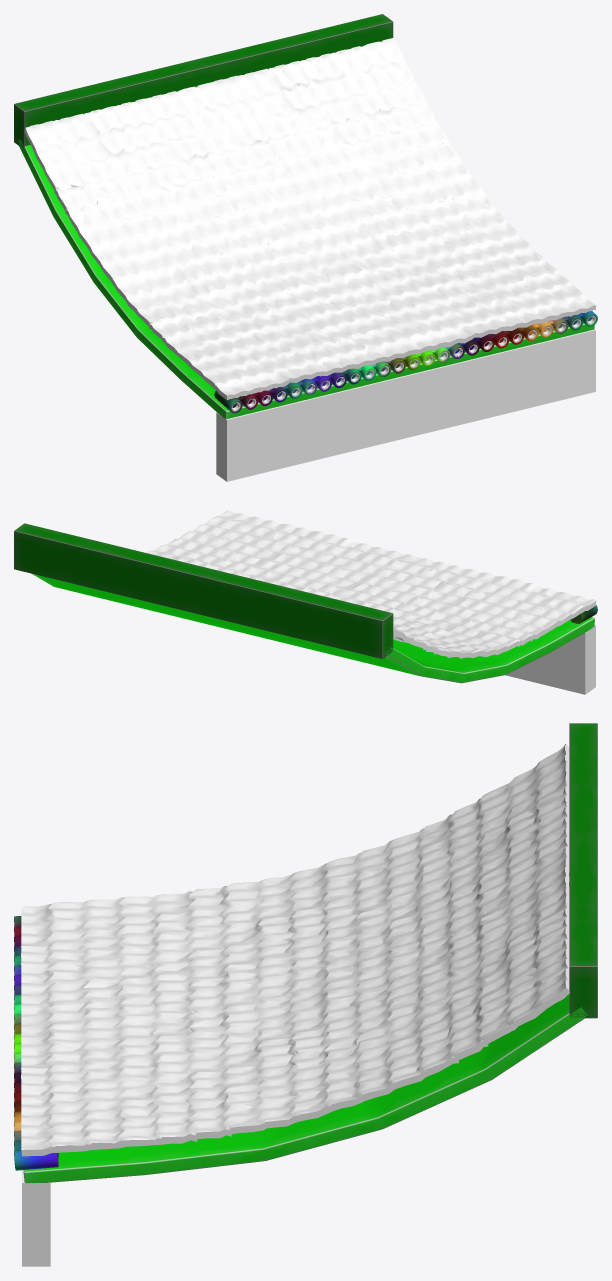
File: roof_side_400x400_01_middle.fbx
The picture shows the model from 3 angles, top to bottom: view 1: azimuth 30°, elevation 25°; view 2: azimuth 150°, elevation 25°; view 3: azimuth 270°, elevation 25°; orthographic projection. The views are drawn at different scales.
Visible parts, largest first — view 1: roof_side_400x400_01_middle; view 2: roof_side_400x400_01_middle; view 3: roof_side_400x400_01_middle.
Part boxes in pixels (left/top/right/bottom): roof_side_400x400_01_middle: left=14, top=14, right=597, bottom=481; roof_side_400x400_01_middle: left=14, top=510, right=597, bottom=694; roof_side_400x400_01_middle: left=14, top=723, right=597, bottom=1266.
Bounding box in the file's own units: 4 × 2.3 × 4.06.
